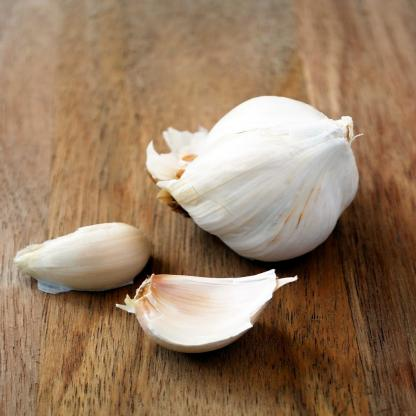--: (132, 55, 393, 278), (7, 206, 156, 310)
